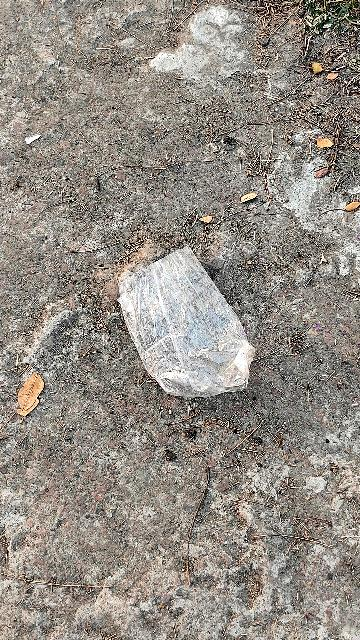polythene: (118, 251, 259, 395)
